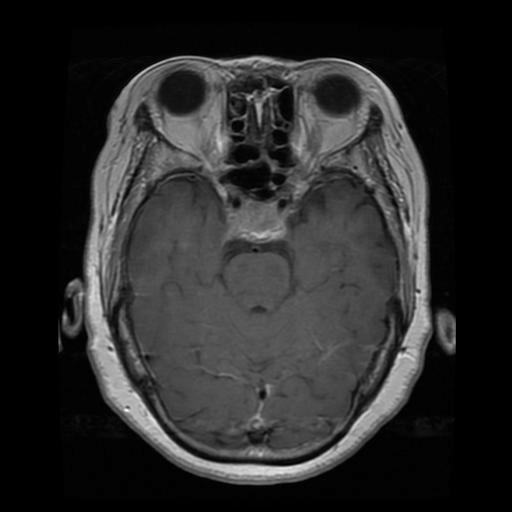Tumour-Pituitary: (219, 191, 304, 253)
